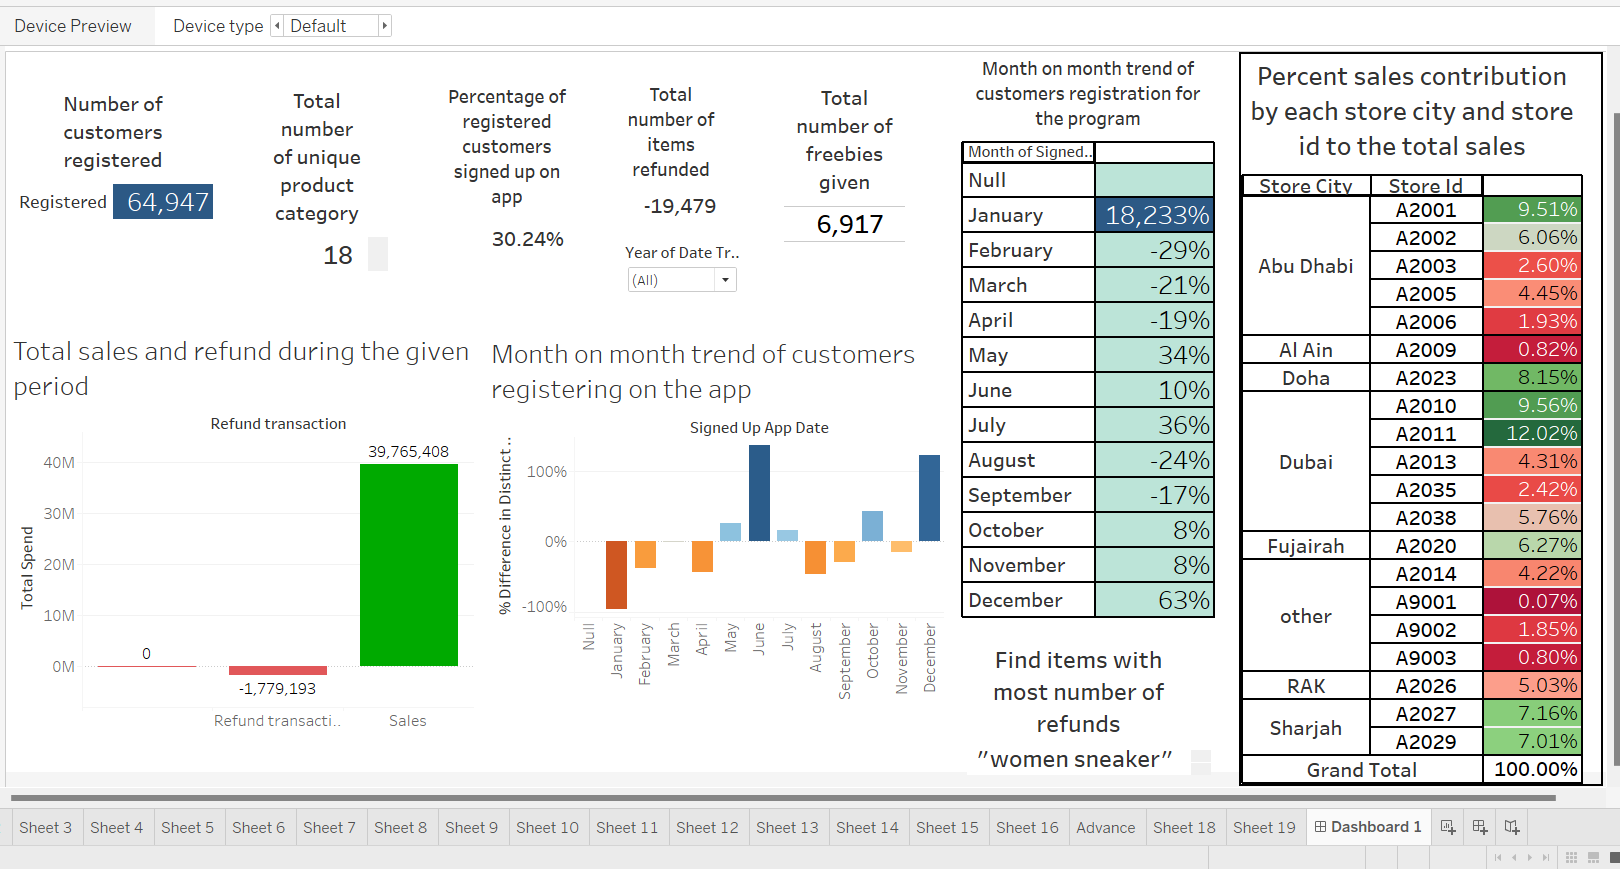

This screenshot's page, from the dashboard's own definition file:
{"tool":"tableau","page":{"name":"Dashboard 1","canvas":[1000,1000],"units":"permille","ordinal":0},"visuals":[{"type":"text","box":[383,20.5,159.7,44.8]},{"type":"worksheet","title":"Sheet 7","mark":"Square","rows":["signed_up_loyalty_program_date"],"box":[597.1,76.8,173.3,783.6]},{"type":"worksheet","title":"Sheet 5","mark":"Automatic","box":[384.8,110.1,77.5,189.5]},{"type":"worksheet","title":"Advance","mark":"Automatic","box":[269.8,112.7,91.8,242]},{"type":"worksheet","title":"Sheet 6","mark":"Square","rows":["Calculation_740842185350037505"],"box":[486.6,112.7,91.2,230.5]},{"type":"worksheet","title":"Sheet 2","mark":"Automatic","box":[163.7,116.5,101.2,242]},{"type":"worksheet","title":"Sheet 1","mark":"Square","rows":["Calculation_740842185341435904"],"box":[5,120.4,131.2,239.4]},{"type":"filter","title":"Sheet 5","param":"[federated.1c4bp2j0oniw9v19u1ou10vlrjri].[yr:date_transacted:ok]","box":[387.3,321.4,71.8,67.9]},{"type":"worksheet","title":"Sheet 3","mark":"Automatic","rows":["total_spend"],"cols":["Calculation_740842185350037505"],"box":[2.5,432.8,290.2,535.2]},{"type":"worksheet","title":"Sheet 8","mark":"Bar","cols":["signed_up_app_date"],"box":[301.4,436.6,285.3,493]},{"type":"worksheet","title":"Sheet 14","mark":"Automatic","box":[600.9,829.7,157.4,174.1]}]}

Visuals, with their boxes on the dashboard's canvas, which has no fixed pixel size, in thousandths of its width and height (x1, y1, x2, y2). These are canvas units, not pixel positions in the 1620x869 screenshot, which may show the page scaled, cropped or inside an application window:
text: crop(383, 20, 543, 65)
"Sheet 7" worksheet (Square marks): crop(597, 77, 770, 860)
"Sheet 5" worksheet: crop(385, 110, 462, 300)
"Advance" worksheet: crop(270, 113, 362, 355)
"Sheet 6" worksheet (Square marks): crop(487, 113, 578, 343)
"Sheet 2" worksheet: crop(164, 116, 265, 358)
"Sheet 1" worksheet (Square marks): crop(5, 120, 136, 360)
"Sheet 5" filter: crop(387, 321, 459, 389)
"Sheet 3" worksheet: crop(2, 433, 293, 968)
"Sheet 8" worksheet (Bar marks): crop(301, 437, 587, 930)
"Sheet 14" worksheet: crop(601, 830, 758, 1004)
